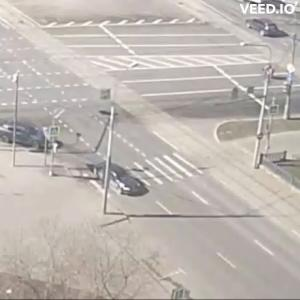car: (1, 120, 54, 149), (96, 166, 139, 195), (240, 15, 283, 37)
